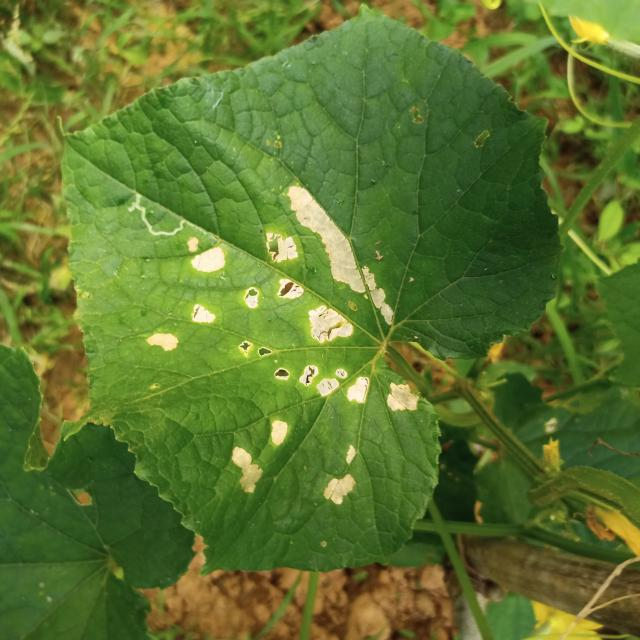disease_cucumber: (264, 184, 398, 344), (134, 236, 260, 370), (233, 335, 422, 414), (220, 413, 363, 507)
